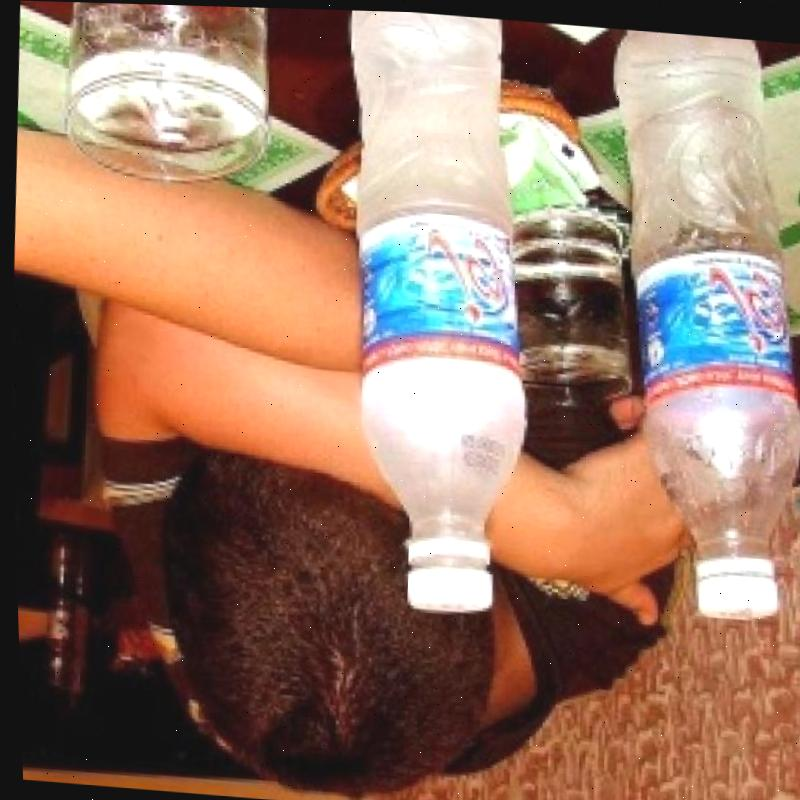botella: (309, 7, 523, 620), (582, 24, 800, 620)
